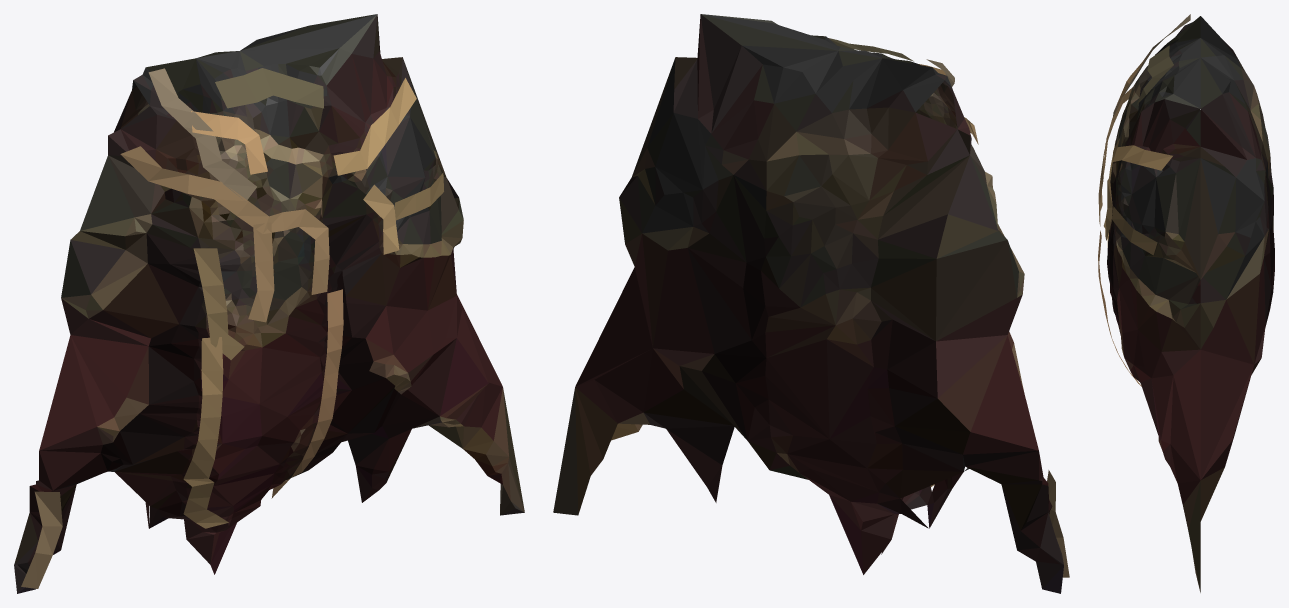
The picture shows the model from 3 angles, left to right: view 1: azimuth 30°, elevation 25°; view 2: azimuth 150°, elevation 25°; view 3: azimuth 270°, elevation 25°; orthographic projection. The views are drawn at different scales.
Visible parts, largest first — view 1: object 2, detail; view 2: object 2, detail; view 3: object 2, detail.
Part boxes in pixels (x1,y1,x2,y2): object 2: [14, 14, 524, 593]; detail: [21, 68, 443, 588]; object 2: [553, 14, 1063, 593]; detail: [828, 38, 1069, 577]; object 2: [1107, 16, 1274, 592]; detail: [1098, 14, 1190, 386].
Bounding box in the file's own units: 163 × 164 × 61.13.
